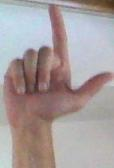L: (0, 2, 114, 119)
